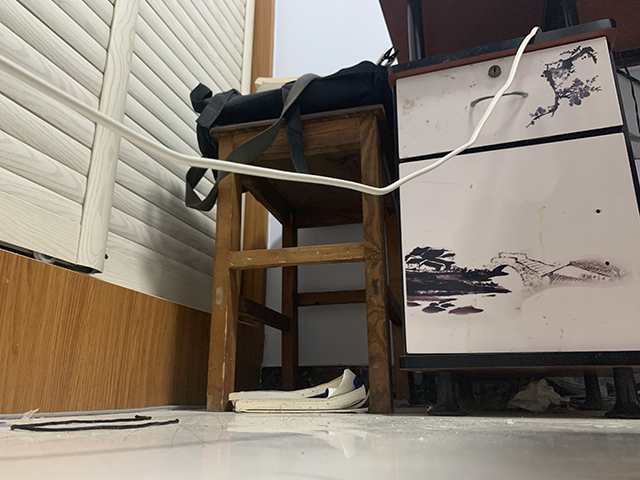cabinet: (1, 1, 276, 421), (378, 1, 640, 417)
stool: (204, 103, 409, 415)
wire: (10, 415, 181, 433)
